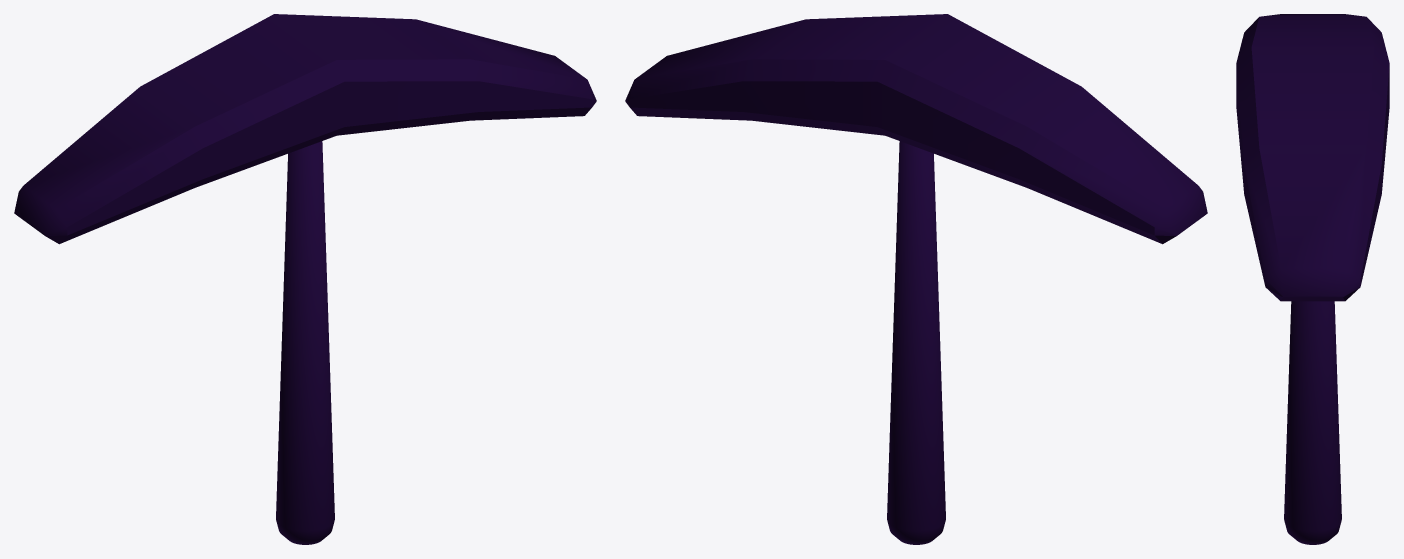
The model's file is spitzhacke.glb.
3 views of the same model, side by side, from view 1: azimuth 30°, elevation 25°; view 2: azimuth 150°, elevation 25°; view 3: azimuth 270°, elevation 25° (orthographic). The views are drawn at different scales.
Visible parts, largest first — view 1: spitzhacke; view 2: spitzhacke; view 3: spitzhacke.
Part boxes in pixels (<box>): spitzhacke: <box>14,14,596,544</box>; spitzhacke: <box>625,14,1207,544</box>; spitzhacke: <box>1236,14,1389,544</box>.
Size of the model in its own units: 1.11 by 0.9704 by 0.2734.
